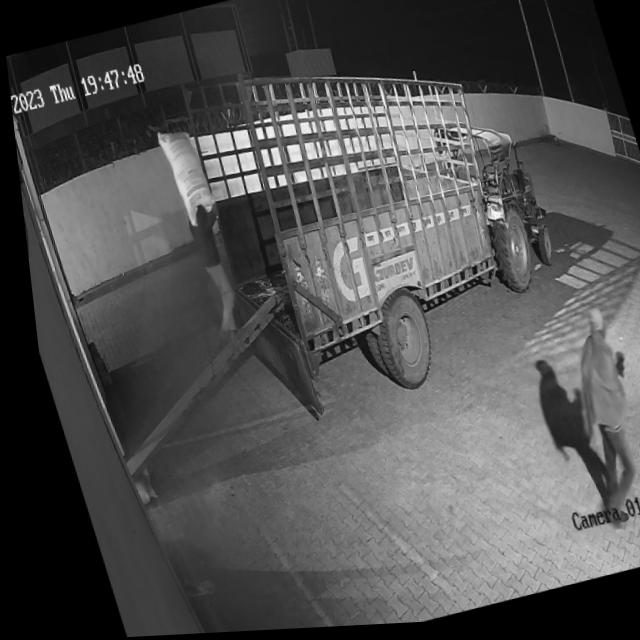sack: (153, 126, 215, 230)
